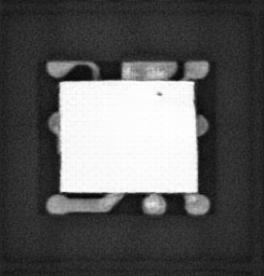DIE_INK: (154, 89, 164, 98)
